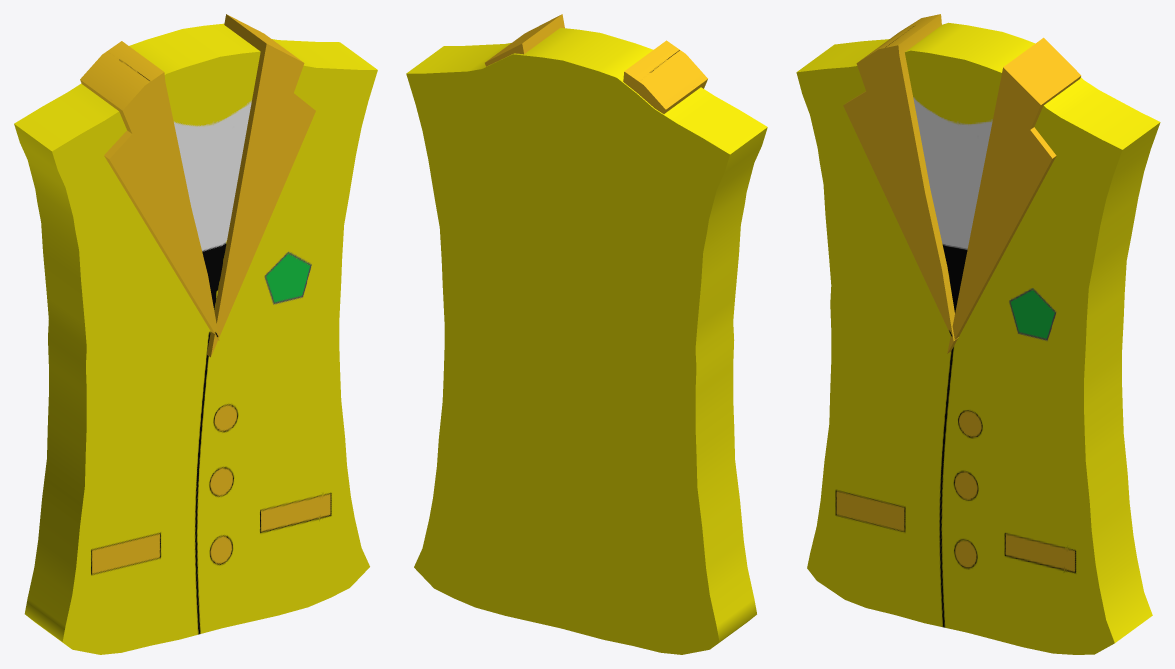
Rendered from almamater.fbx.
3 views of the same model, side by side, from view 1: azimuth 30°, elevation 25°; view 2: azimuth 150°, elevation 25°; view 3: azimuth 330°, elevation 25° (orthographic).
Parts seen in each view (by area): view 1: node_id81 (×3); view 2: node_id81 (×3); view 3: node_id81 (×3).
Part boxes in pixels (x1,y1,x2,y2): node_id81 (×3): (14, 14, 377, 654); node_id81 (×3): (406, 14, 767, 654); node_id81 (×3): (796, 14, 1160, 654).
Bounding box in the file's own units: 0.4958 × 0.841 × 0.1139.
Materials: 3 (3 with a texture image).
